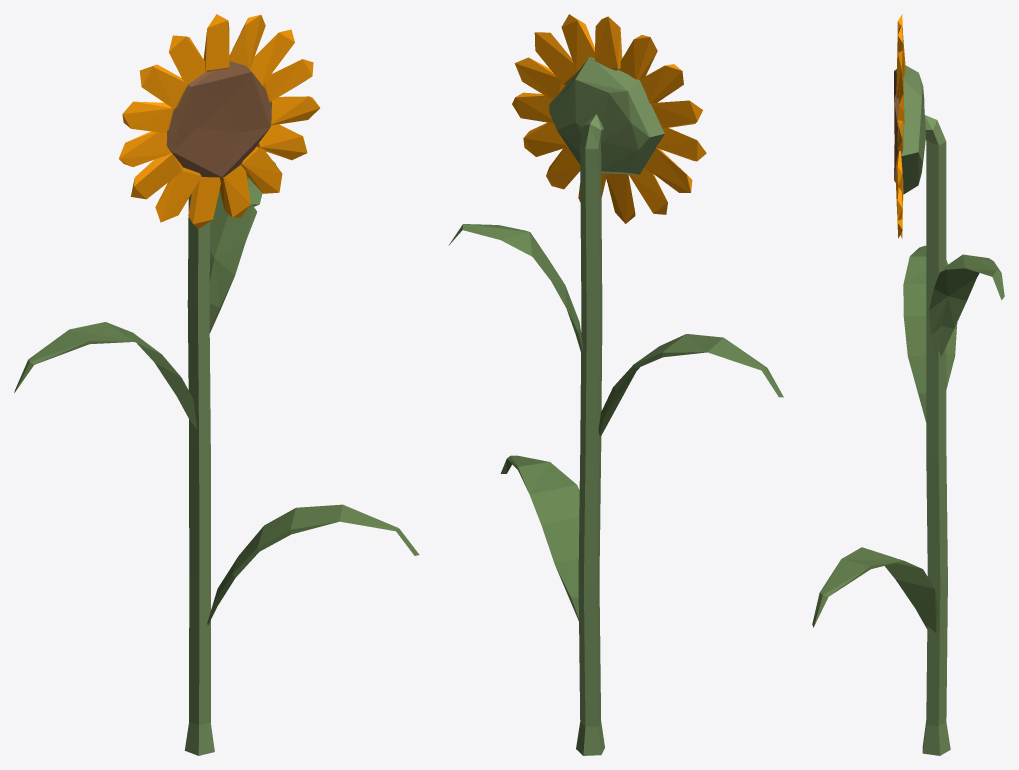
Rendered from Mesh_Plants_Sunflower_02.FBX.
3 renders of one model, left to right at view 1: azimuth 30°, elevation 25°; view 2: azimuth 150°, elevation 25°; view 3: azimuth 270°, elevation 25°, orthographic. The views are drawn at different scales.
Parts seen in each view (by area): view 1: Mesh_Plants_Sunflower_02; view 2: Mesh_Plants_Sunflower_02; view 3: Mesh_Plants_Sunflower_02.
Boxes of the visible parts, box(x1,y1,x2,y2) form: Mesh_Plants_Sunflower_02: box(14, 14, 419, 755); Mesh_Plants_Sunflower_02: box(448, 14, 783, 755); Mesh_Plants_Sunflower_02: box(812, 14, 1004, 755).
Bounding box in the file's own units: 22.74 × 46.5 × 11.19.
